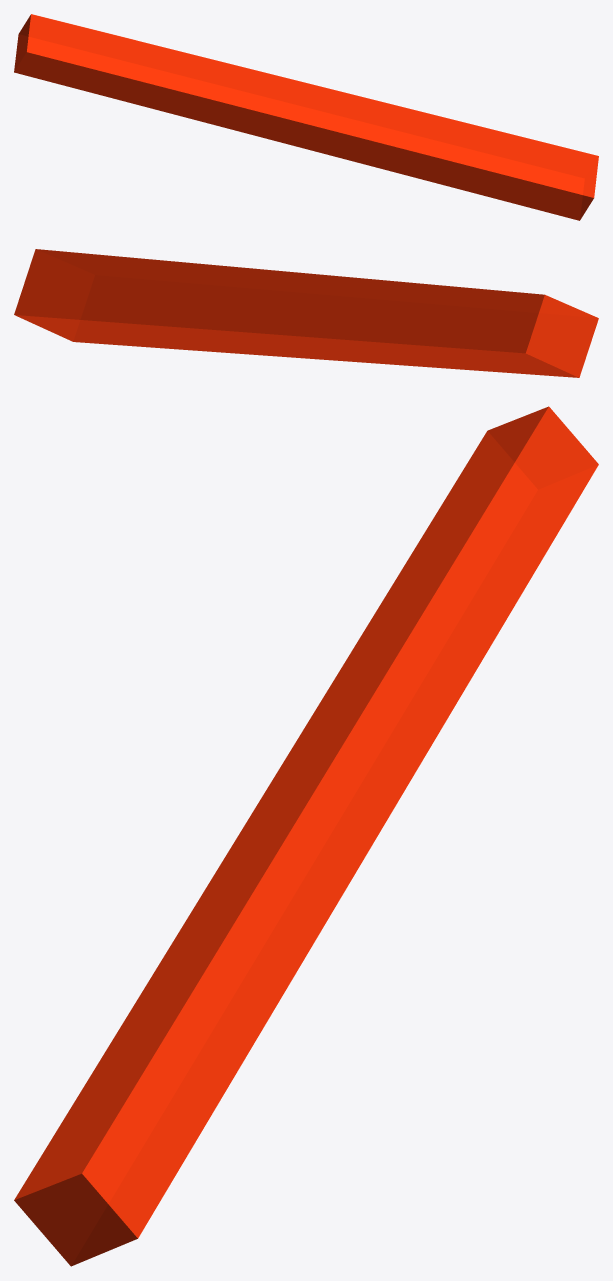
The model's file is Event_421278790_EBrechit_25.fbx.
3 renders of one model, top to bottom at view 1: azimuth 30°, elevation 25°; view 2: azimuth 150°, elevation 25°; view 3: azimuth 270°, elevation 25°, orthographic. The views are drawn at different scales.
Parts seen in each view (by area): view 1: Model; view 2: Model; view 3: Model.
Part boxes in pixels (left/top/right/bottom): Model: left=14, top=14, right=598, bottom=220; Model: left=14, top=249, right=598, bottom=377; Model: left=14, top=406, right=598, bottom=1266.
Bounding box in the file's own units: 0.735 × 0.3337 × 0.3982.
